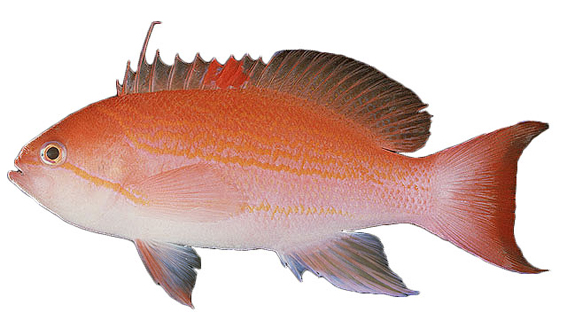fish: (7, 20, 550, 310)
